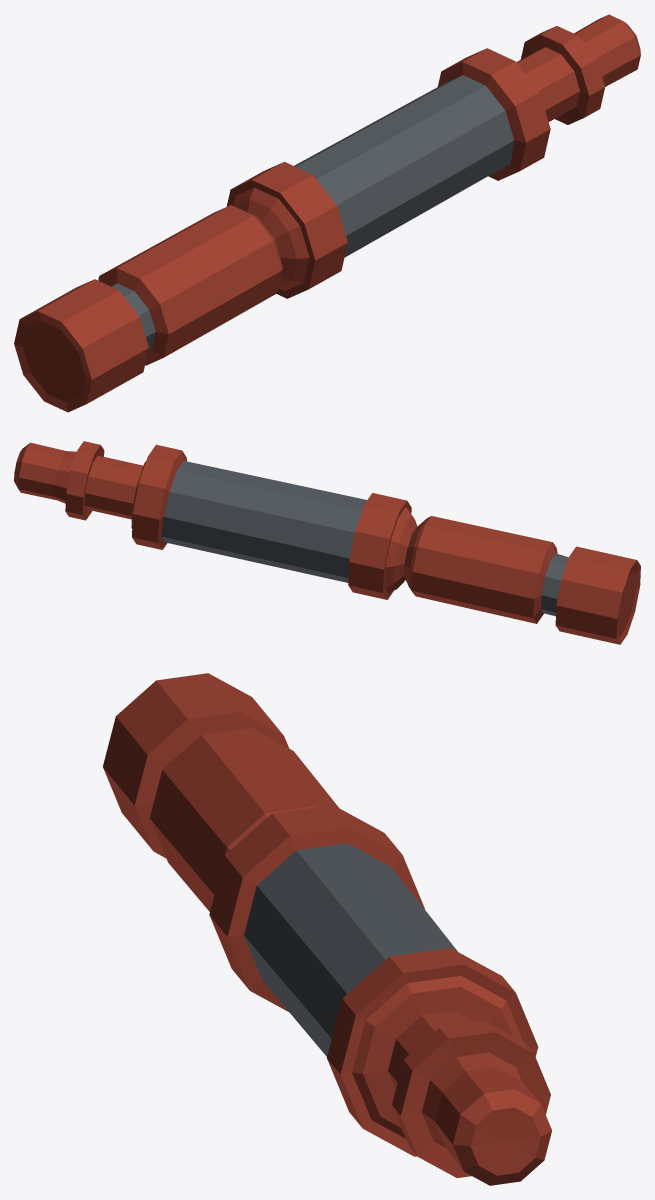
The model's file is Fighter_03_Pipes_03_Red.fbx.
The picture shows the model from 3 angles, top to bottom: view 1: azimuth 30°, elevation 25°; view 2: azimuth 150°, elevation 25°; view 3: azimuth 270°, elevation 25°; orthographic projection. The views are drawn at different scales.
Parts seen in each view (by area): view 1: Fighter_03_Pipes_03_Red; view 2: Fighter_03_Pipes_03_Red; view 3: Fighter_03_Pipes_03_Red.
Boxes of the visible parts, x1,y1,x2,y2 form: Fighter_03_Pipes_03_Red: (14,14,640,412); Fighter_03_Pipes_03_Red: (14,441,640,644); Fighter_03_Pipes_03_Red: (103,673,551,1185).
Size of the model in its own units: 235 by 55.14 by 83.95.
Materials: 1 (1 with a texture image).
